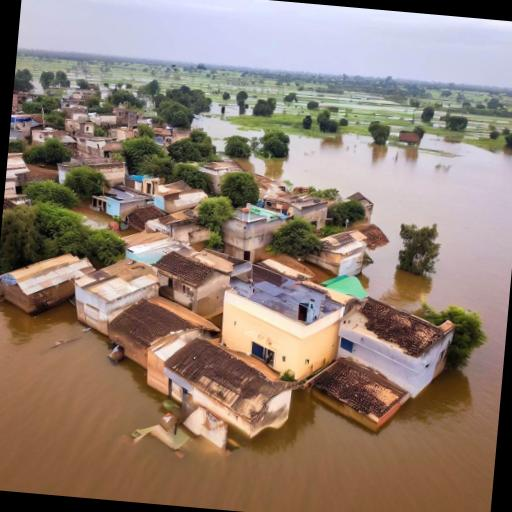flood: (0, 134, 512, 512), (194, 104, 261, 150)
house: (149, 330, 303, 438), (332, 292, 462, 404), (221, 270, 350, 378), (104, 285, 222, 379), (300, 356, 416, 438), (76, 262, 168, 340), (0, 245, 95, 318), (152, 246, 230, 314), (217, 201, 292, 264), (304, 223, 370, 280), (54, 152, 130, 193), (97, 192, 162, 232), (273, 188, 331, 232), (156, 180, 214, 218), (4, 147, 34, 202), (125, 202, 167, 234), (62, 114, 98, 138), (344, 190, 378, 215)
